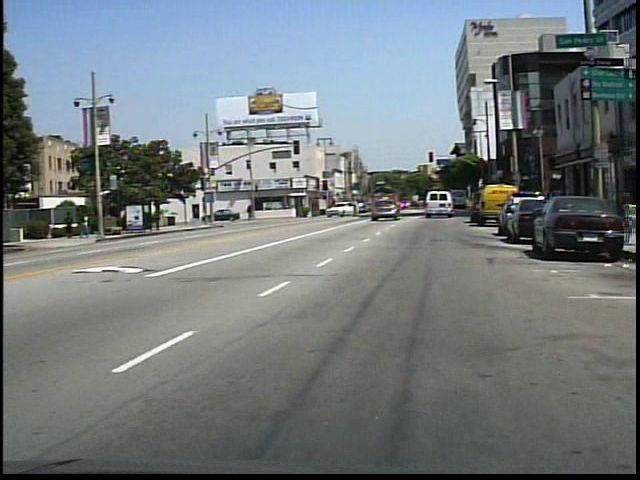person: (83, 210, 100, 243), (68, 212, 82, 240), (252, 202, 259, 223)
